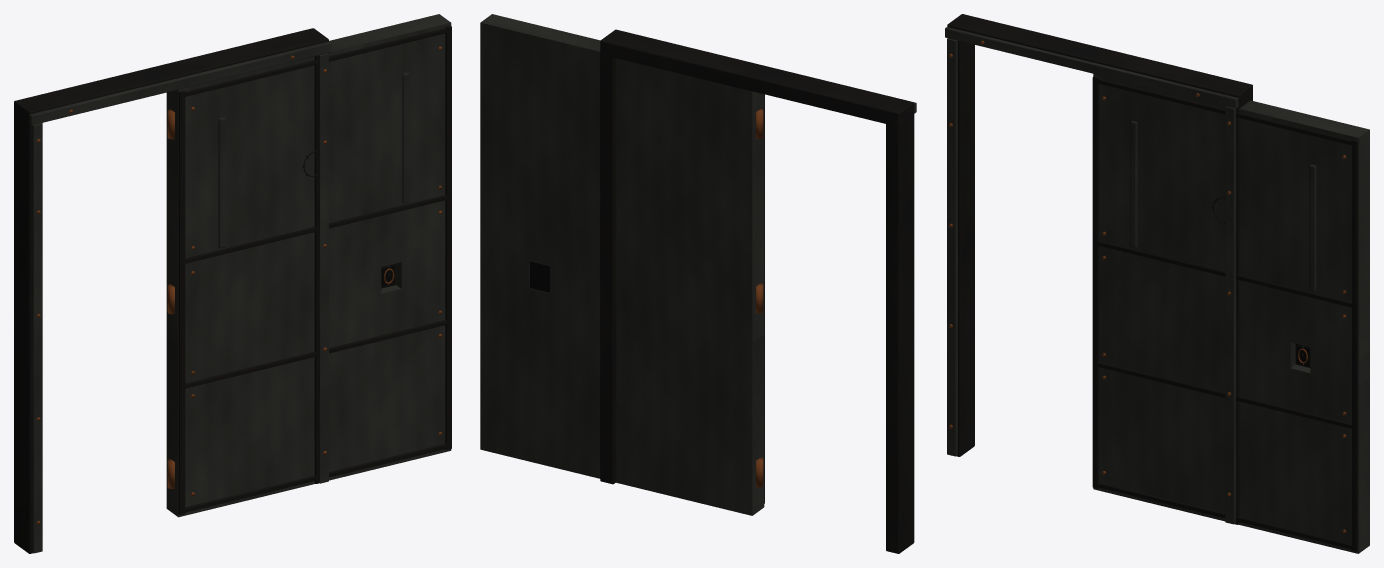
The model's file is panel-kit.glb.
3 views of the same model, side by side, from view 1: azimuth 30°, elevation 25°; view 2: azimuth 150°, elevation 25°; view 3: azimuth 330°, elevation 25° (orthographic). The views are drawn at different scales.
Visible parts, largest first — view 1: PanelLeaf_Visual, PanelFrame_Visual; view 2: PanelLeaf_Visual, PanelFrame_Visual; view 3: PanelLeaf_Visual, PanelFrame_Visual.
Part boxes in pixels (x1,y1,x2,y2): PanelLeaf_Visual: [166, 14, 451, 517]; PanelFrame_Visual: [14, 28, 331, 553]; PanelLeaf_Visual: [480, 14, 764, 515]; PanelFrame_Visual: [600, 29, 916, 553]; PanelLeaf_Visual: [1092, 73, 1369, 553]; PanelFrame_Visual: [945, 14, 1252, 524].
Bounding box in the file's own units: 2.48 × 2.48 × 0.1875.
4 materials, 4 textured.
